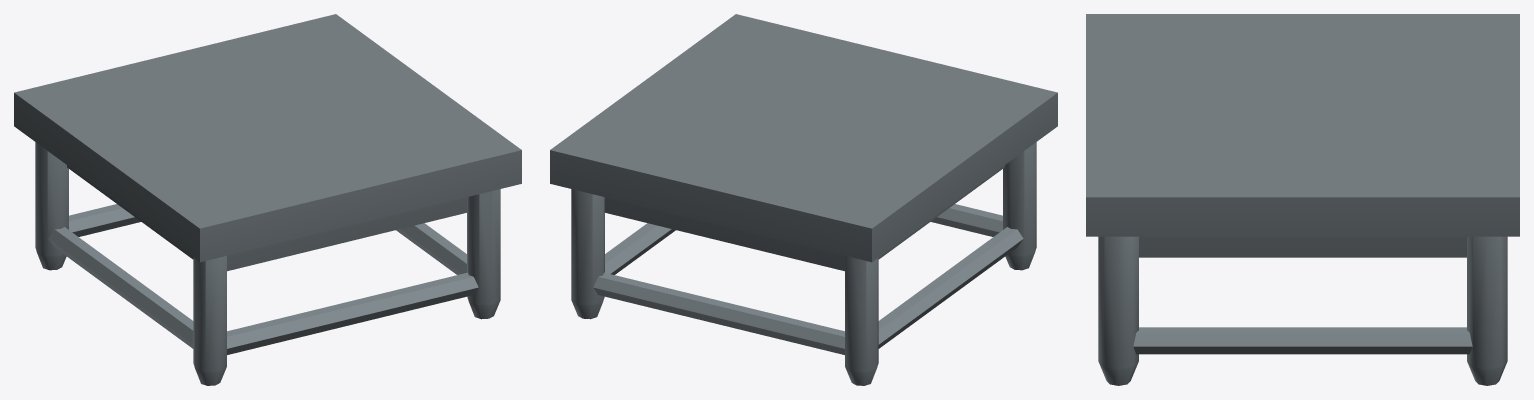
File: kitchentable_A.obj
3 views of the same model, side by side, from view 1: azimuth 30°, elevation 25°; view 2: azimuth 150°, elevation 25°; view 3: azimuth 270°, elevation 25° (orthographic). The views are drawn at different scales.
Visible parts, largest first — view 1: kitchentable_A_Cube.990; view 2: kitchentable_A_Cube.990; view 3: kitchentable_A_Cube.990.
Part boxes in pixels (x1,y1,x2,y2): kitchentable_A_Cube.990: (14,14,521,385); kitchentable_A_Cube.990: (550,14,1057,385); kitchentable_A_Cube.990: (1086,14,1519,385).
Size of the model in its own units: 2 by 1 by 2.
Materials: 1 (1 with a texture image).
